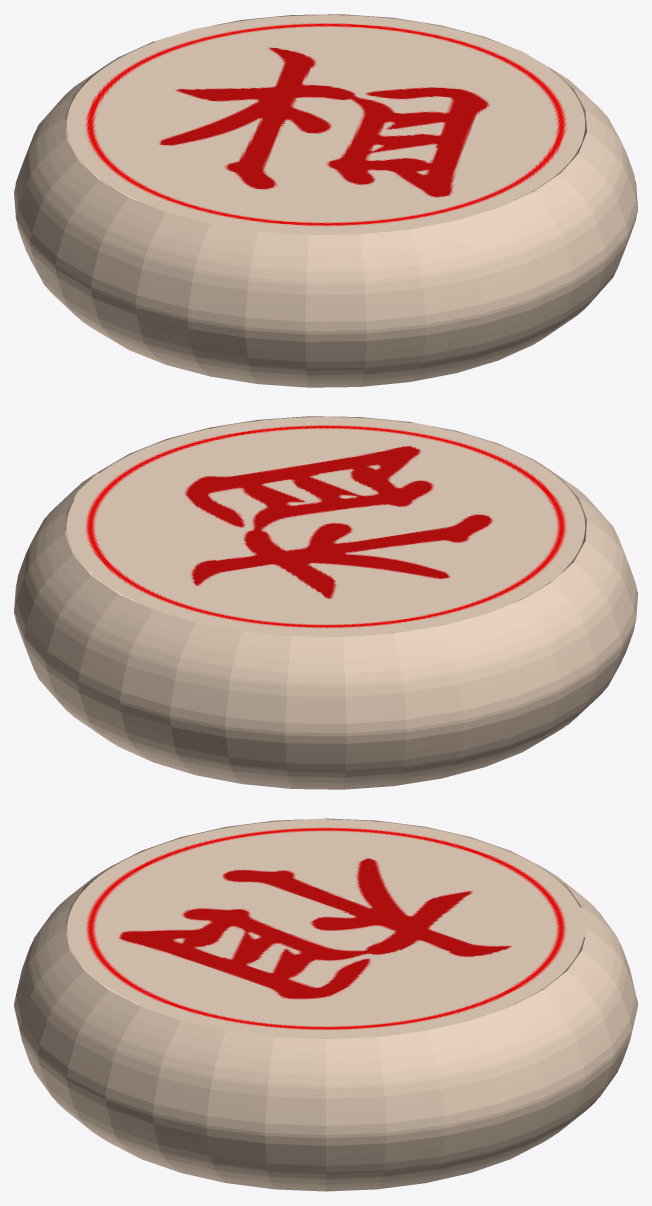
File: red_bishop.fbx
The picture shows the model from 3 angles, top to bottom: view 1: azimuth 30°, elevation 25°; view 2: azimuth 150°, elevation 25°; view 3: azimuth 270°, elevation 25°; orthographic projection.
Parts seen in each view (by area): view 1: Rad Bishop; view 2: Rad Bishop; view 3: Rad Bishop.
Part boxes in pixels (x1,y1,x2,y2): Rad Bishop: (14, 14, 637, 387); Rad Bishop: (14, 416, 637, 789); Rad Bishop: (14, 818, 637, 1191).
Bounding box in the file's own units: 245 × 66.11 × 245.
Materials: 2 (1 with a texture image).
